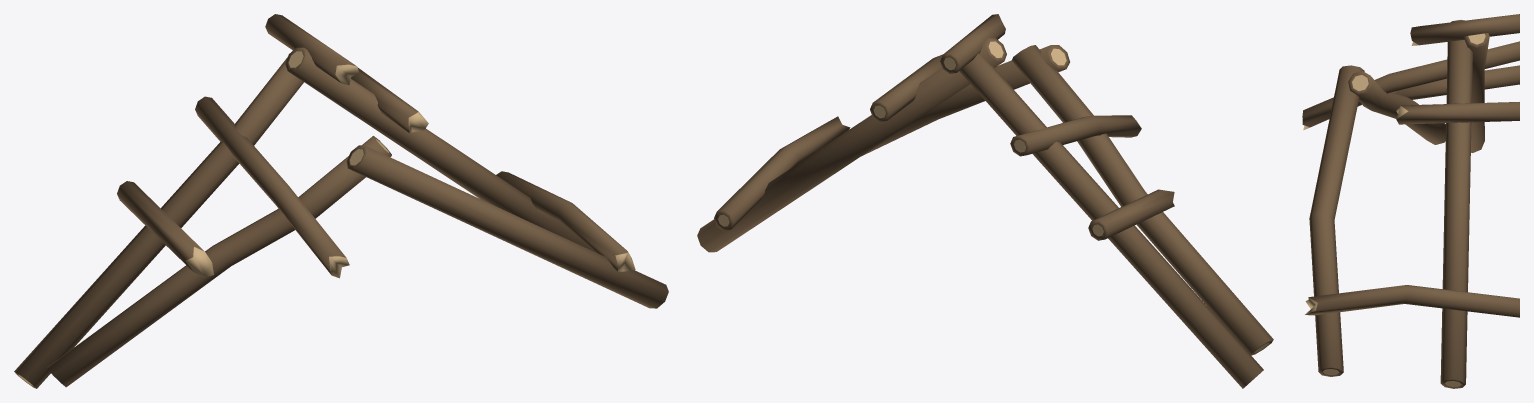
File: rpgpp_av_roof_support_01_6x3x3_c.gltf
The picture shows the model from 3 angles, left to right: view 1: azimuth 30°, elevation 25°; view 2: azimuth 150°, elevation 25°; view 3: azimuth 270°, elevation 25°; orthographic projection. The views are drawn at different scales.
Visible parts, largest first — view 1: rpgpp_av_roof_support_01_6x3x3_c; view 2: rpgpp_av_roof_support_01_6x3x3_c; view 3: rpgpp_av_roof_support_01_6x3x3_c.
Boxes of the visible parts, x1,y1,x2,y2 form: rpgpp_av_roof_support_01_6x3x3_c: (14, 14, 668, 388); rpgpp_av_roof_support_01_6x3x3_c: (697, 14, 1273, 388); rpgpp_av_roof_support_01_6x3x3_c: (1302, 14, 1519, 388).
Bounding box in the file's own units: 0.0734 × 0.0358 × 0.0274.
Materials: 1 (1 with a texture image).
